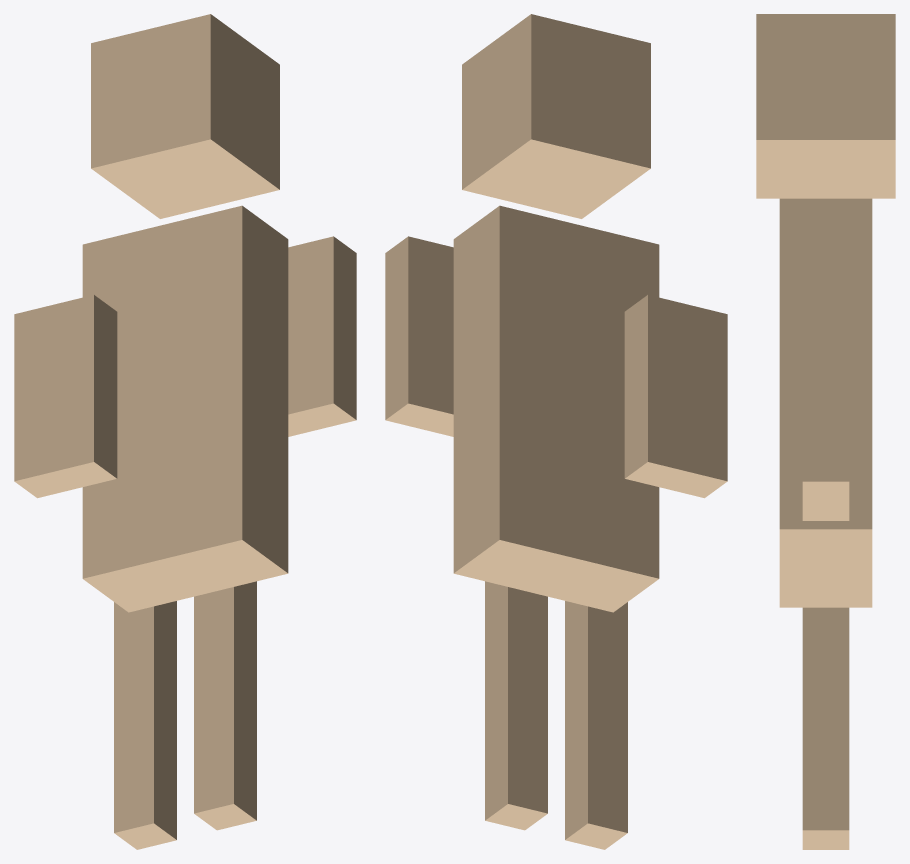
Rendered from vey.gltf.
3 views of the same model, side by side, from view 1: azimuth 30°, elevation 25°; view 2: azimuth 150°, elevation 25°; view 3: azimuth 270°, elevation 25° (orthographic).
Visible parts, largest first — view 1: VeyCharacter; view 2: VeyCharacter; view 3: VeyCharacter.
Part boxes in pixels (x1,y1,x2,y2): VeyCharacter: [14, 14, 356, 849]; VeyCharacter: [385, 14, 727, 849]; VeyCharacter: [756, 14, 895, 849].
Bounding box in the file's own units: 0.8 × 1.85 × 0.3.
